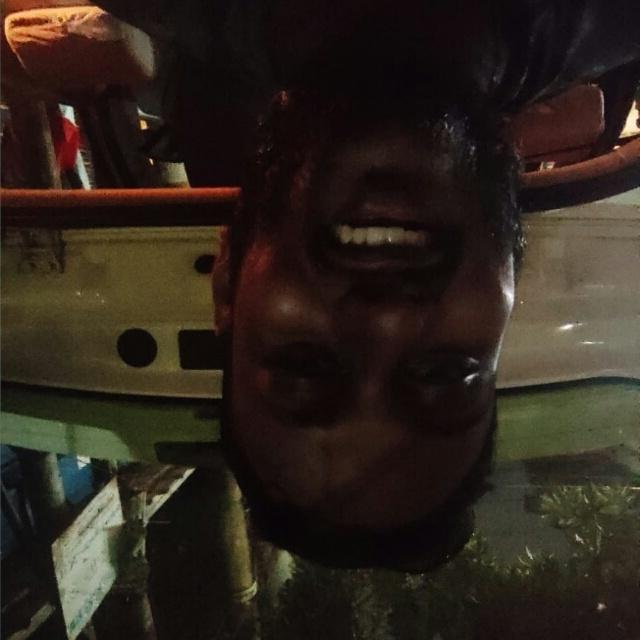Happy: (165, 75, 525, 606)
